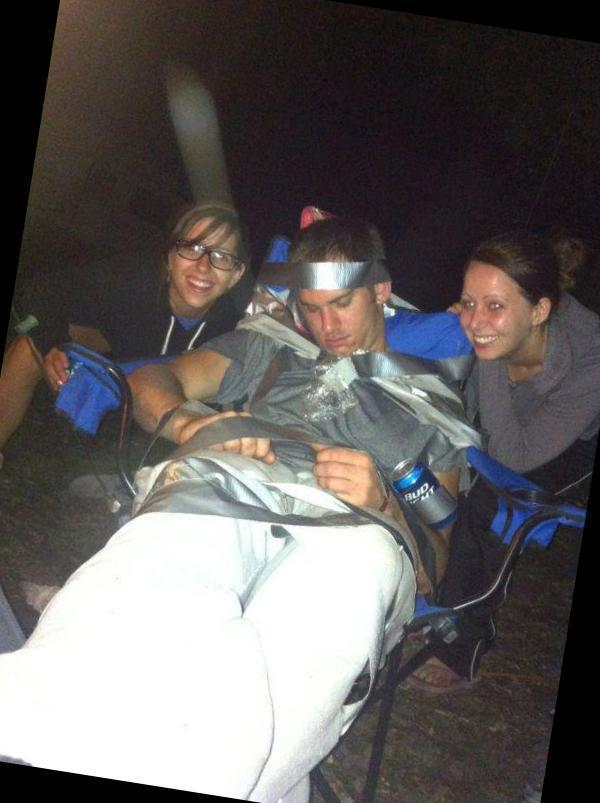Drunk: (287, 262, 379, 352), (457, 260, 535, 365), (167, 212, 243, 307)
